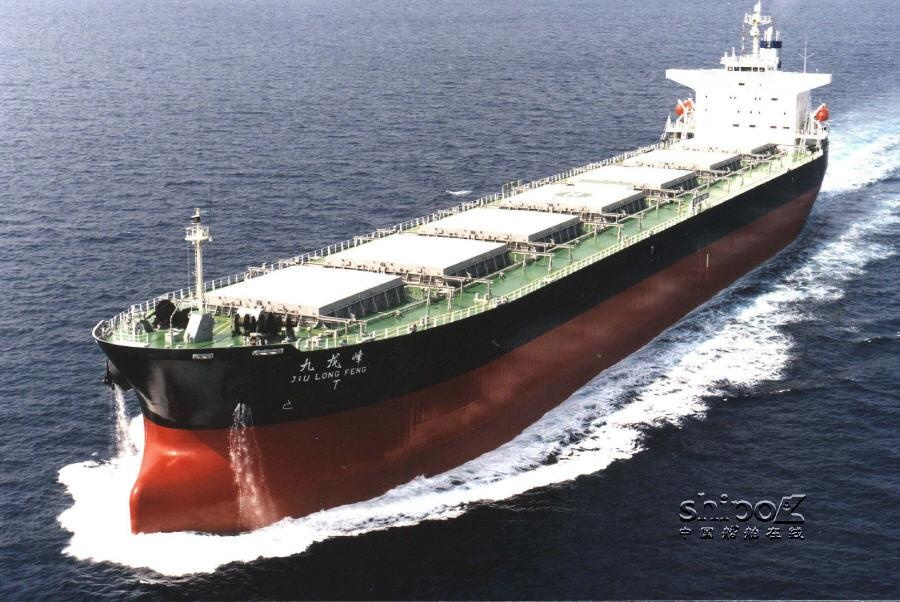Cargoship: (89, 1, 833, 548)
